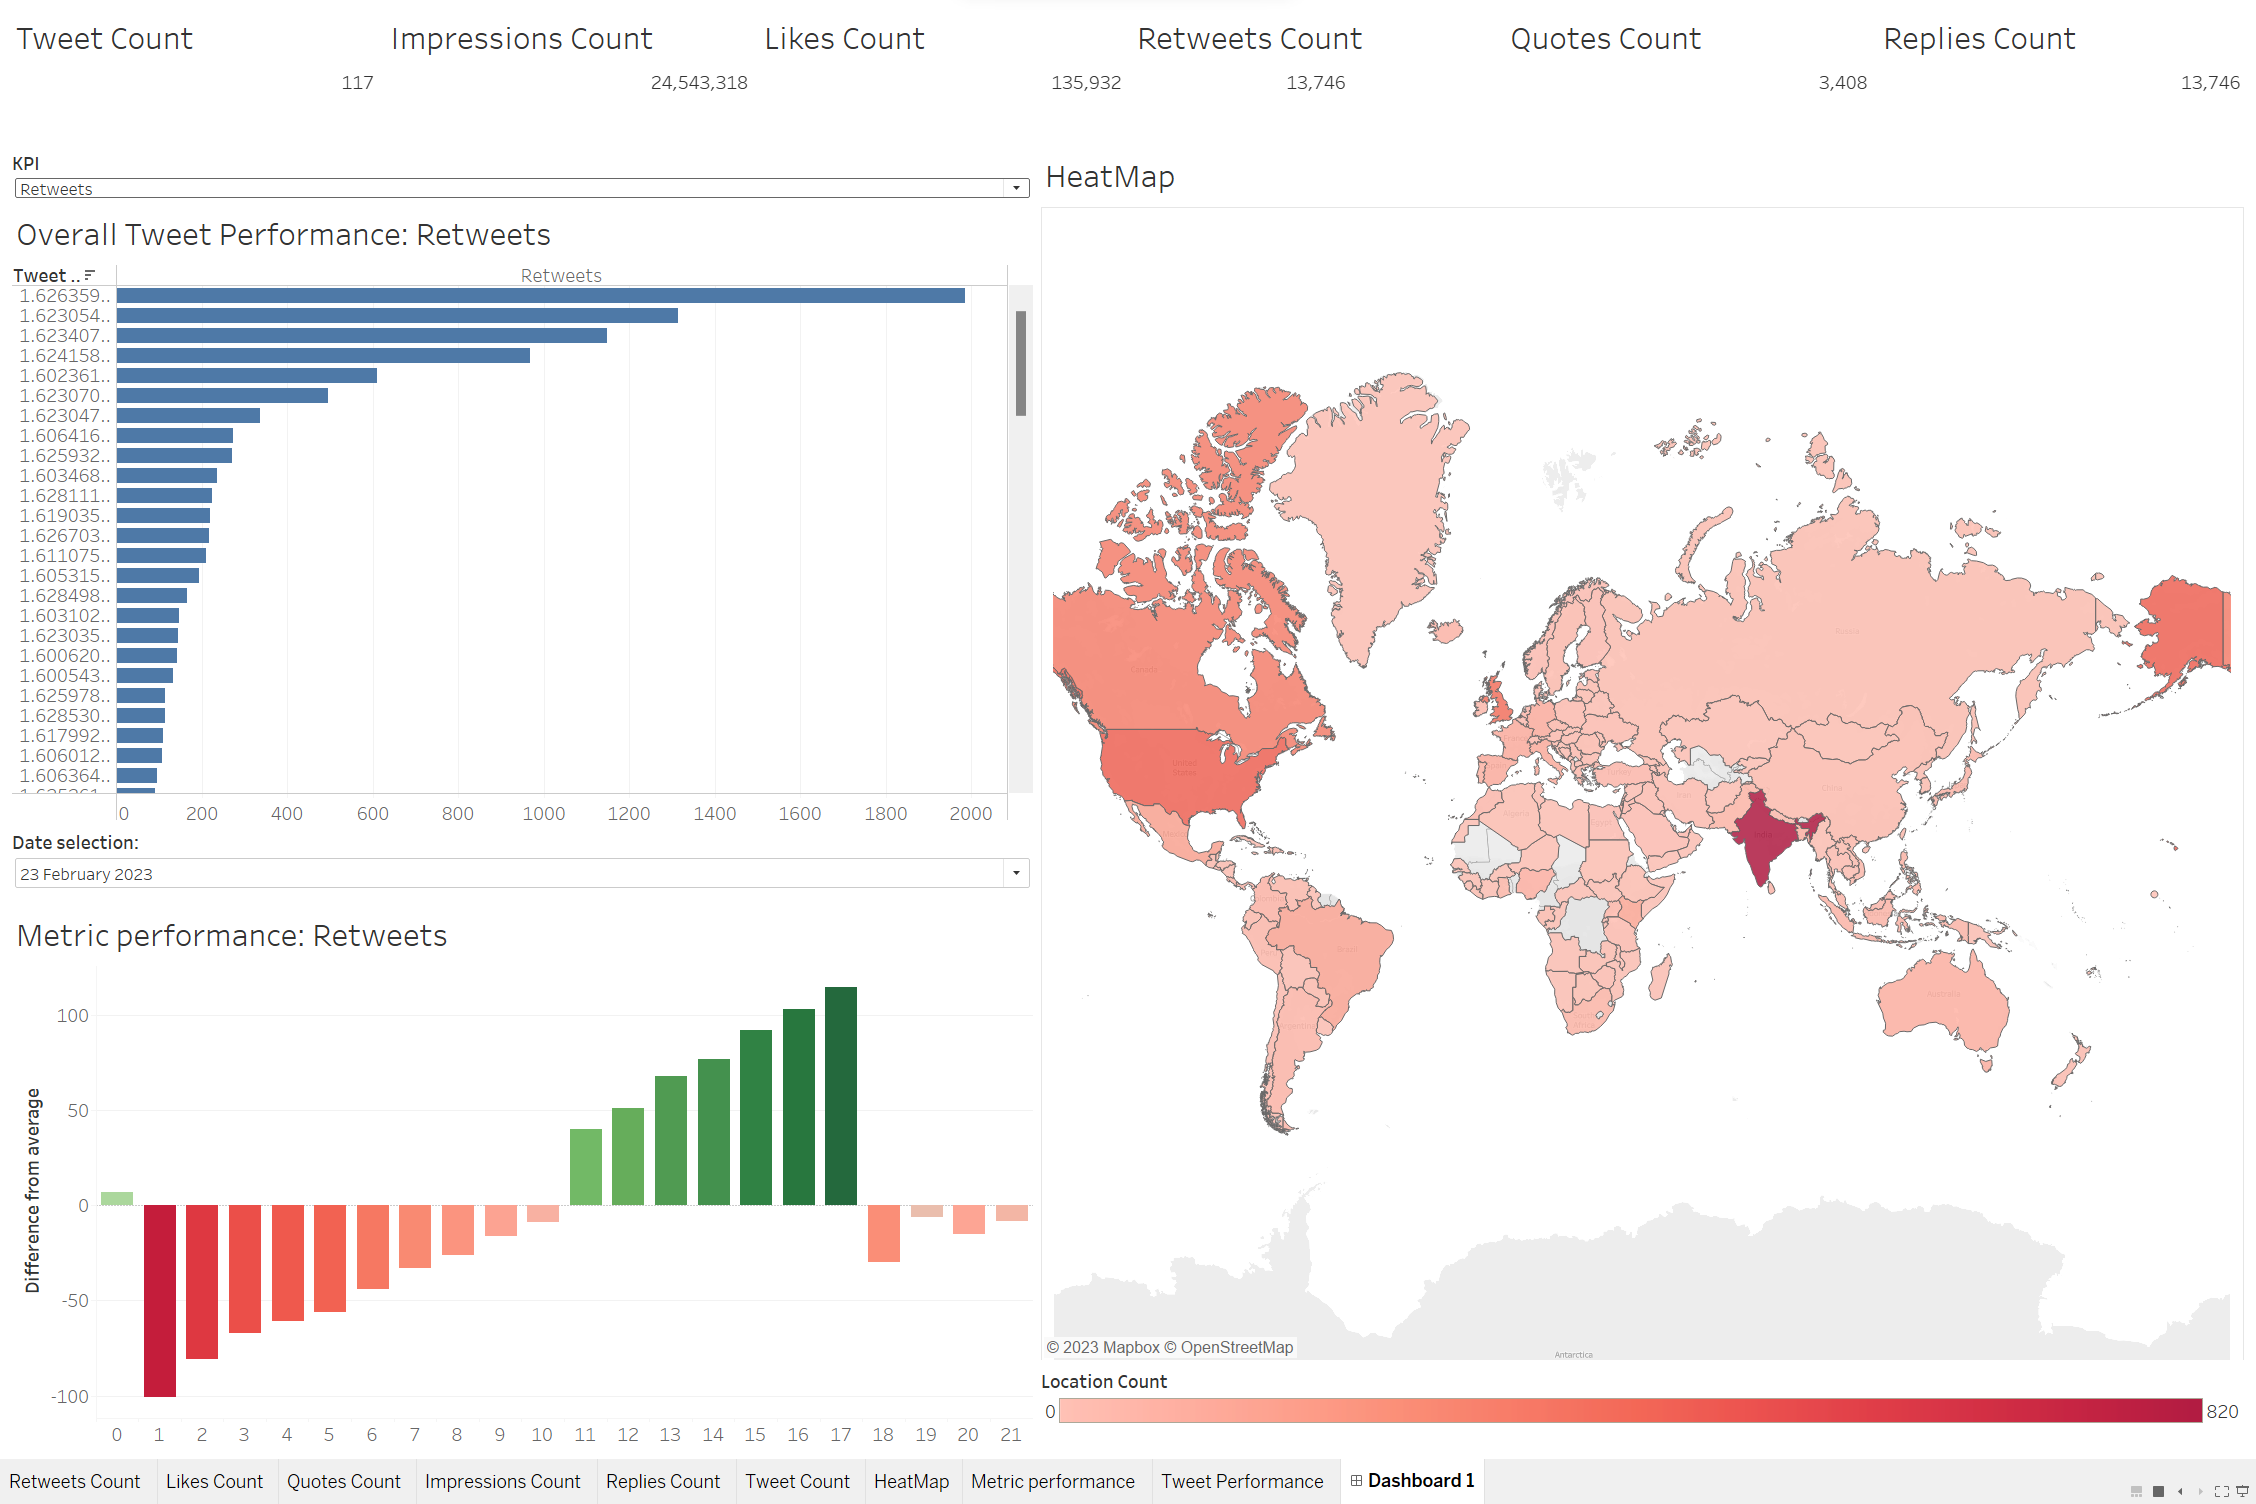

Layout of this report page (visuals, bound fields, positions):
{"tool":"tableau","page":{"name":"Dashboard 1","canvas":[1000,1000],"units":"permille","ordinal":0},"visuals":[{"type":"worksheet","title":"Tweet Count","mark":"Automatic","box":[4.7,8.8,165.6,94]},{"type":"worksheet","title":"Impressions Count","mark":"Automatic","box":[170.3,8.8,165,94]},{"type":"worksheet","title":"Likes Count","mark":"Automatic","box":[335.3,8.8,165,94]},{"type":"worksheet","title":"Retweets Count","mark":"Automatic","box":[500.3,8.8,165,94]},{"type":"worksheet","title":"Quotes Count","mark":"Automatic","box":[665.3,8.8,165,94]},{"type":"worksheet","title":"Replies Count","mark":"Automatic","box":[830.3,8.8,165,94]},{"type":"parameter","param":"[Parameters].[Parameter 1]","box":[4.7,102.6,455.3,39.6]},{"type":"worksheet","title":"HeatMap","mark":"Automatic","box":[460,102.6,535.3,829.6]},{"type":"worksheet","title":"Tweet Performance","mark":"Automatic","rows":["TweetID"],"cols":["Calculation_3845229723575554049"],"box":[4.7,142.2,455.3,422.7]},{"type":"filter","title":"Metric performance","param":"[federated.1hstvog186zlgm1a60qz70zu8sbw].[md:Calculation_3285657469246820356:ok]","box":[4.7,564.9,455.3,54.4]},{"type":"worksheet","title":"Metric performance","mark":"Bar","rows":["Calculation_3075114189160566796"],"cols":["Calculation_3285657469246820356"],"box":[4.7,619.3,455.3,371.8]},{"type":"legend","title":"HeatMap","param":"[federated.04t0c40131os4f1d3lejd0s8jry3].[usr:Calculation_3285657469238034432:qk","box":[460,932.2,535.3,59]}]}

Visuals, with their boxes on the dashboard's canvas, which has no fixed pixel size, in thousandths of its width and height (x1, y1, x2, y2). These are canvas units, not pixel positions in the 2256x1504 screenshot, which may show the page scaled, cropped or inside an application window:
"Tweet Count" worksheet: {"left": 5, "top": 9, "right": 170, "bottom": 103}
"Impressions Count" worksheet: {"left": 170, "top": 9, "right": 335, "bottom": 103}
"Likes Count" worksheet: {"left": 335, "top": 9, "right": 500, "bottom": 103}
"Retweets Count" worksheet: {"left": 500, "top": 9, "right": 665, "bottom": 103}
"Quotes Count" worksheet: {"left": 665, "top": 9, "right": 830, "bottom": 103}
"Replies Count" worksheet: {"left": 830, "top": 9, "right": 995, "bottom": 103}
parameter: {"left": 5, "top": 103, "right": 460, "bottom": 142}
"HeatMap" worksheet: {"left": 460, "top": 103, "right": 995, "bottom": 932}
"Tweet Performance" worksheet: {"left": 5, "top": 142, "right": 460, "bottom": 565}
"Metric performance" filter: {"left": 5, "top": 565, "right": 460, "bottom": 619}
"Metric performance" worksheet (Bar marks): {"left": 5, "top": 619, "right": 460, "bottom": 991}
"HeatMap" legend: {"left": 460, "top": 932, "right": 995, "bottom": 991}
